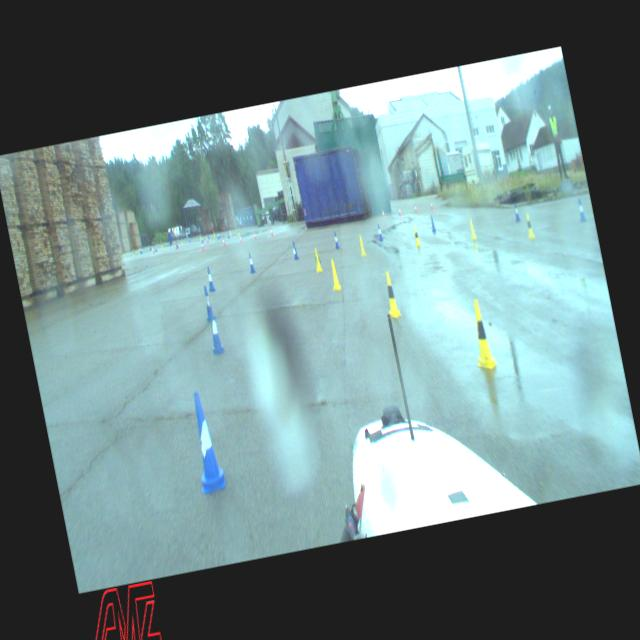blue_cone: (184, 389, 228, 493), (204, 306, 226, 355), (201, 286, 216, 322), (204, 266, 216, 292), (576, 198, 586, 221), (247, 252, 256, 274), (292, 241, 300, 260), (376, 224, 384, 241), (332, 232, 340, 249), (513, 202, 520, 220), (429, 215, 436, 232), (154, 245, 158, 252), (140, 247, 143, 254), (176, 241, 179, 248), (227, 232, 230, 238), (218, 230, 220, 238), (150, 245, 152, 251), (218, 232, 220, 238), (188, 236, 190, 242)
orange_cone: (200, 240, 204, 252), (222, 236, 226, 246), (381, 208, 385, 218), (398, 207, 402, 216), (270, 228, 274, 236), (253, 232, 257, 240), (430, 202, 433, 210), (152, 246, 155, 254), (414, 204, 417, 211), (206, 236, 209, 243), (240, 235, 242, 242)
unknown_cone: (175, 242, 178, 250)
yellow_cone: (464, 299, 496, 369), (382, 270, 402, 320), (328, 258, 342, 292), (524, 214, 535, 238), (312, 248, 322, 272), (412, 226, 422, 247), (358, 235, 367, 257), (468, 218, 477, 238), (229, 229, 232, 236), (161, 240, 163, 248), (133, 249, 135, 256), (180, 238, 182, 242)
